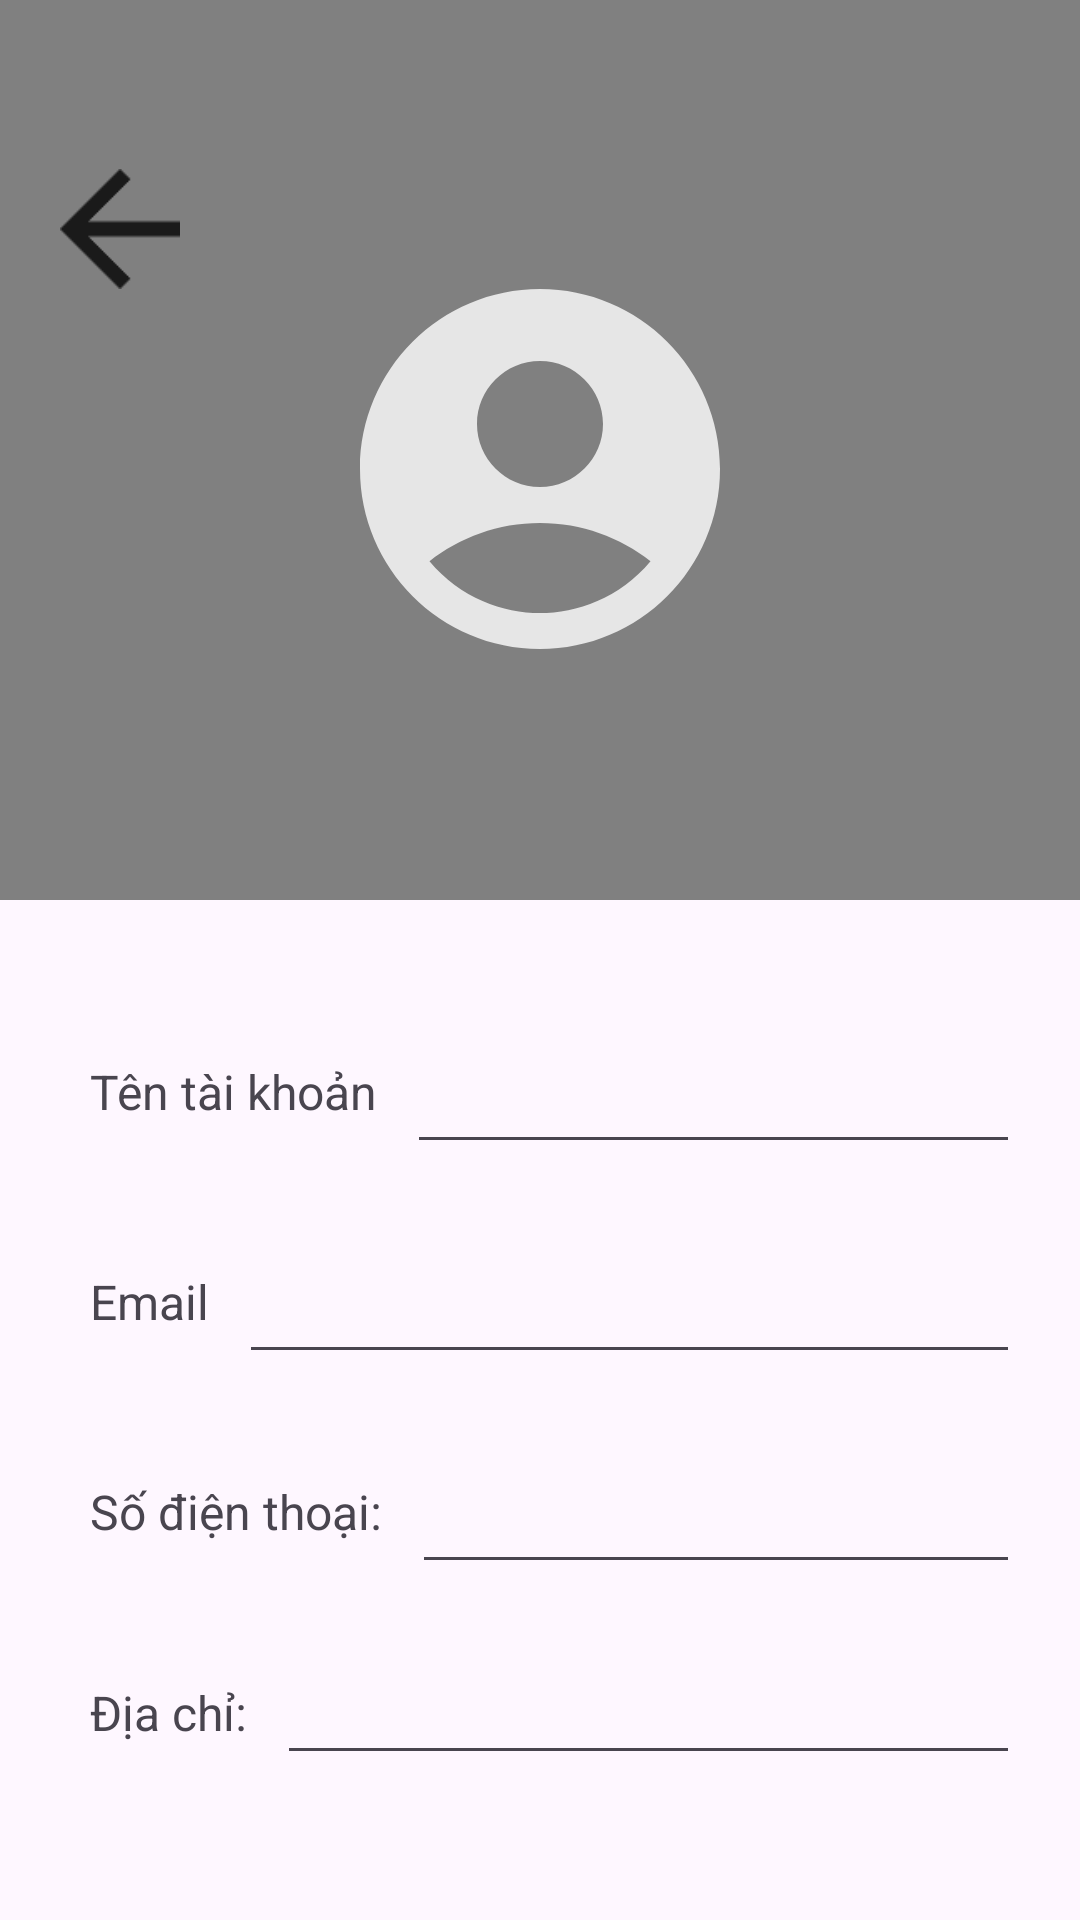

Named icons in this screenshot (1080px×1920px) and their bounding boxes, (x1, y1, x2, y2):
arrowback: (60, 169, 180, 289)
